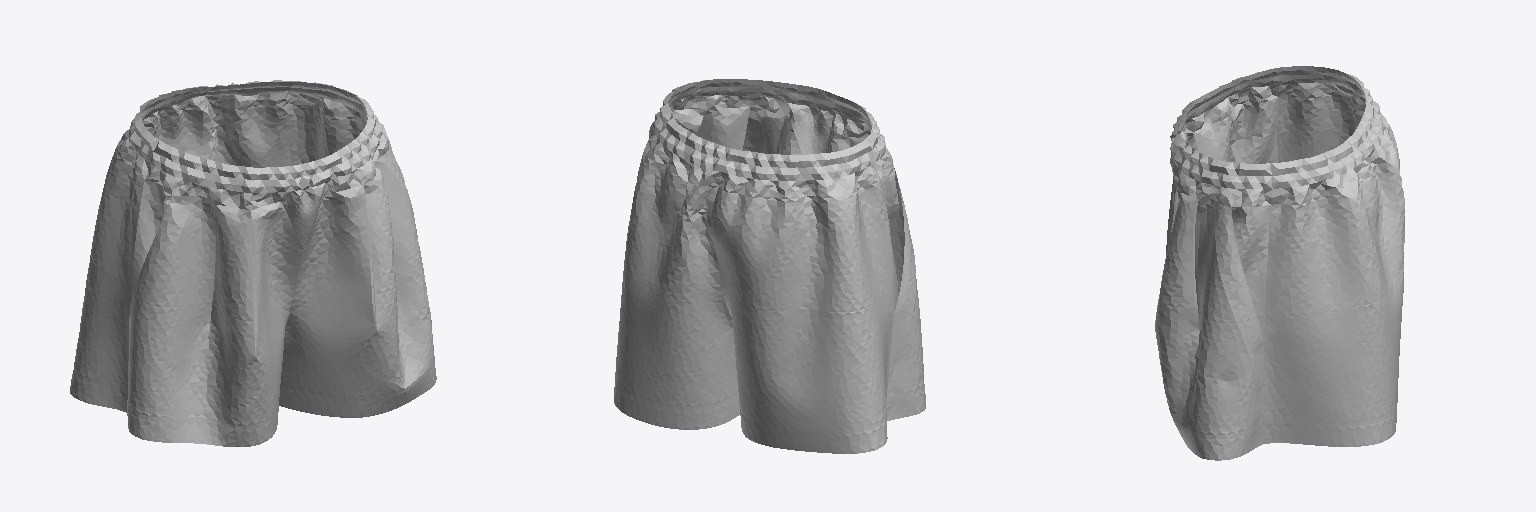
The model's file is Medium_Short.obj.
3 renders of one model, left to right at view 1: azimuth 30°, elevation 25°; view 2: azimuth 150°, elevation 25°; view 3: azimuth 270°, elevation 25°, orthographic.
Parts seen in each view (by area): view 1: duanku.002; view 2: duanku.002; view 3: duanku.002.
Boxes of the visible parts, <box> form: duanku.002: <box>70,80,436,446</box>; duanku.002: <box>614,79,925,453</box>; duanku.002: <box>1155,66,1404,460</box>.
Bounding box in the file's own units: 0.5007 × 0.4661 × 0.3648.